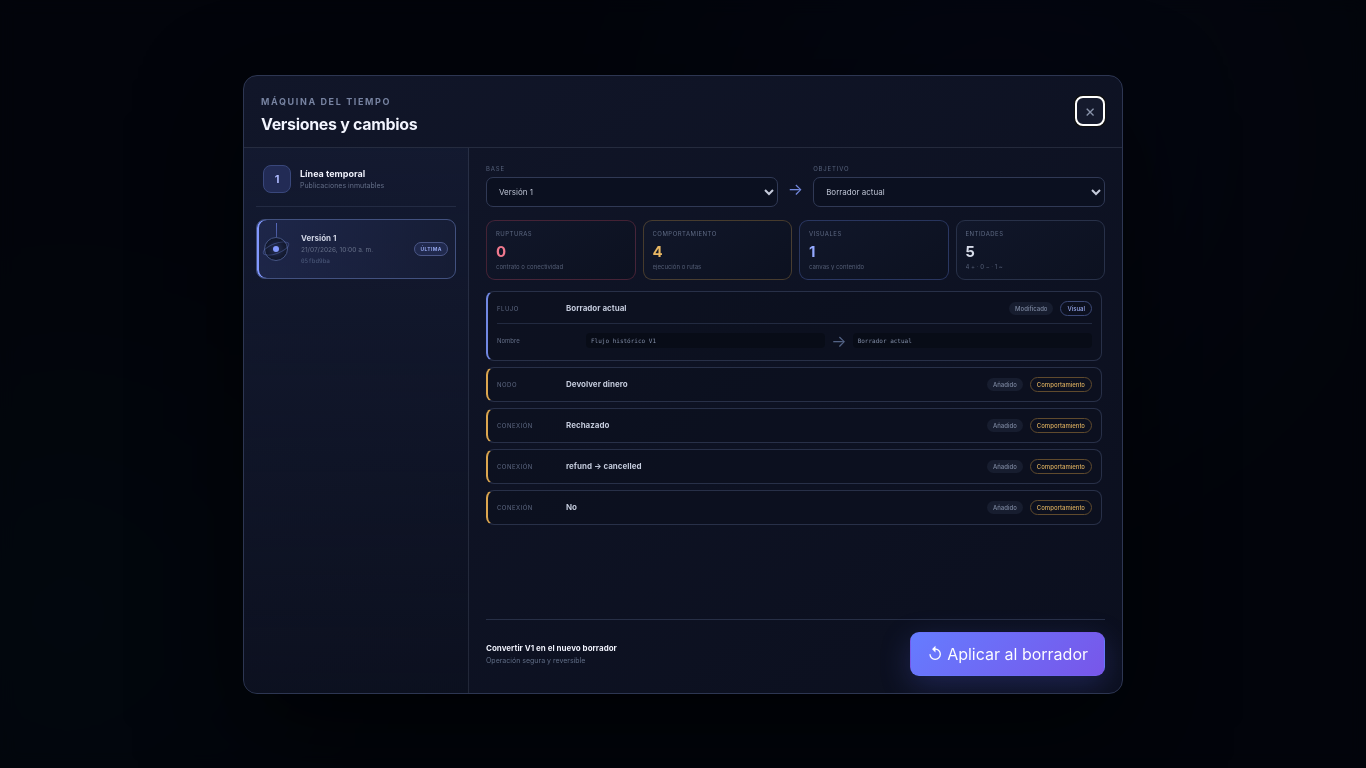
Scenario: VersionHistoryDialog › confirma y aplica una restauración reversible para un editor
Click the button "↺ Aplicar al borrador".
click(1008, 654)  # box [910,632,1105,676]
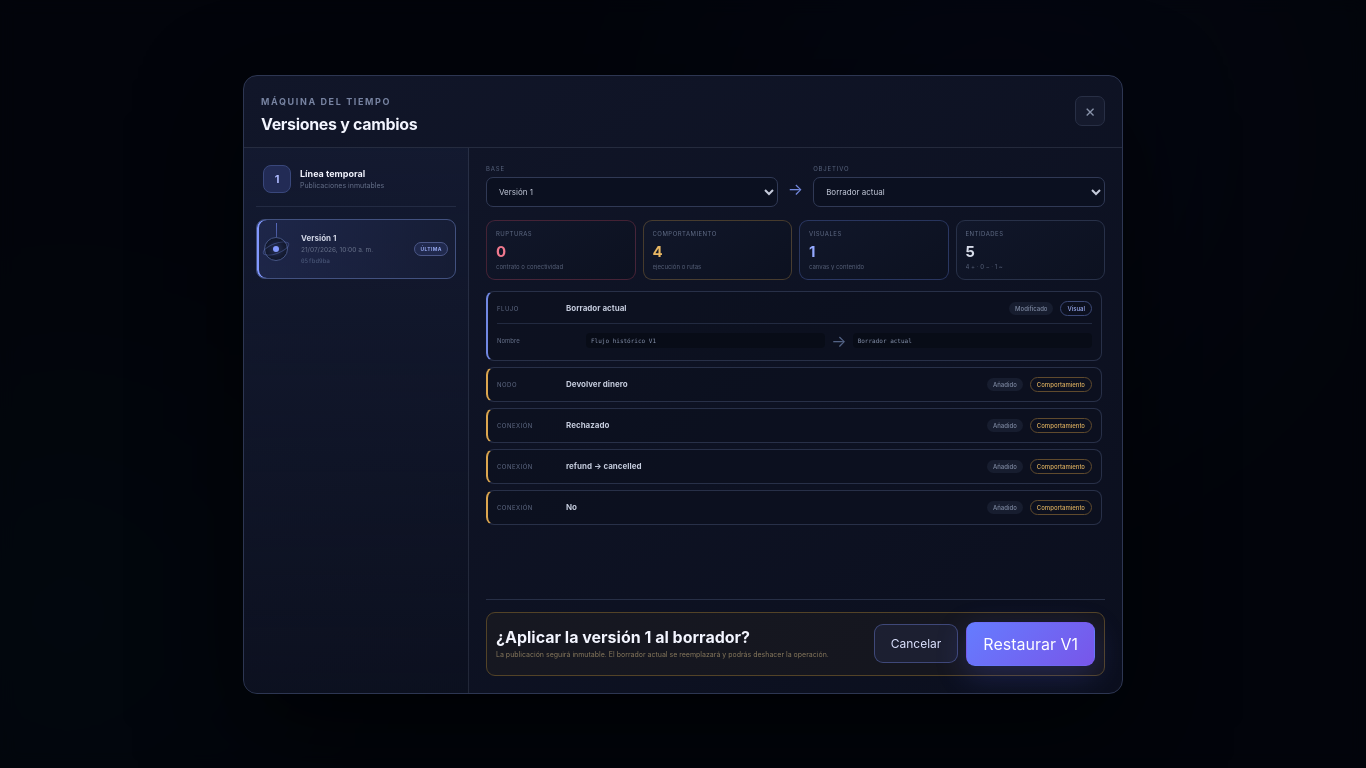
Expected: the text "¿Aplicar la versión 1 al borrador?" is shown, [496,627,750,647]
Click the button "Restaurar V1".
click(1031, 644)  # box [966,622,1095,666]
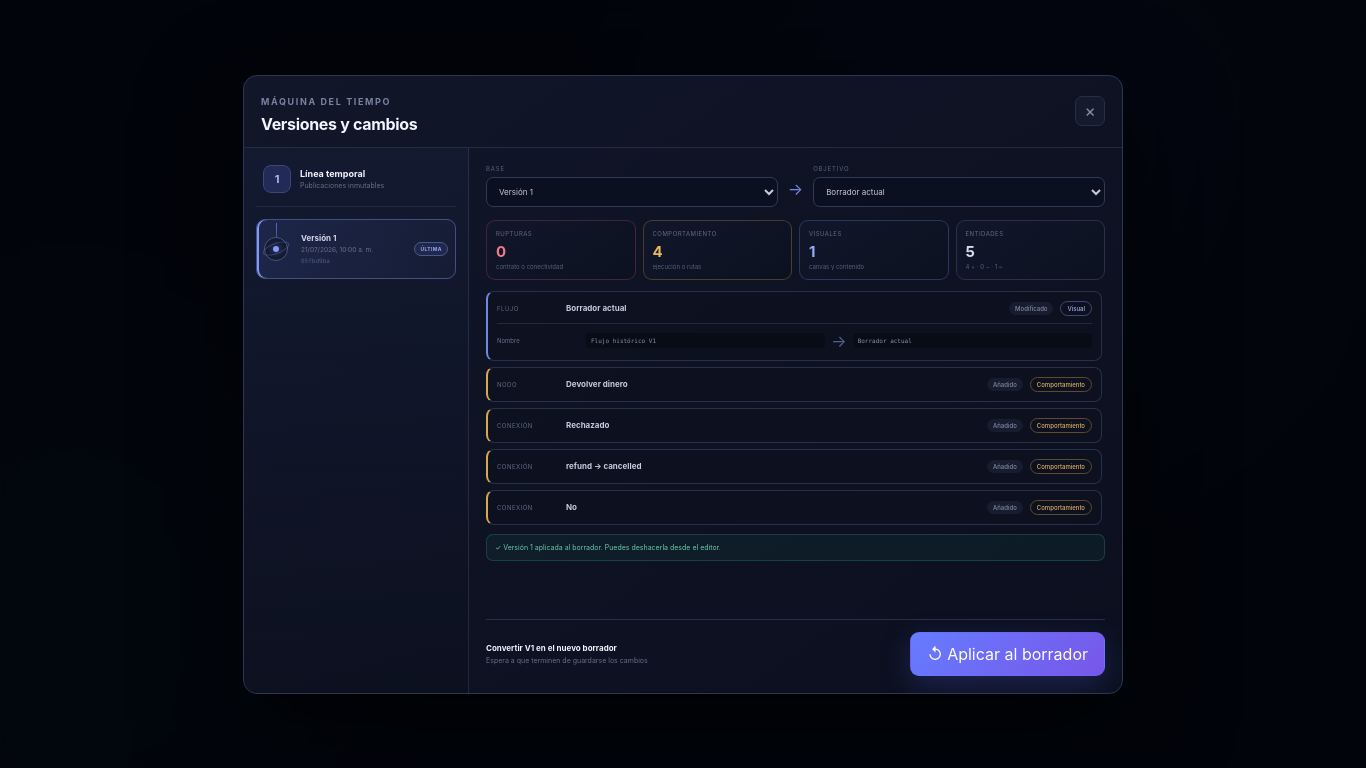
Expected: the text "✓ Versión 1 aplicada al borrador. Puedes deshacerla desde el editor." is shown, [486,534,1105,560]
